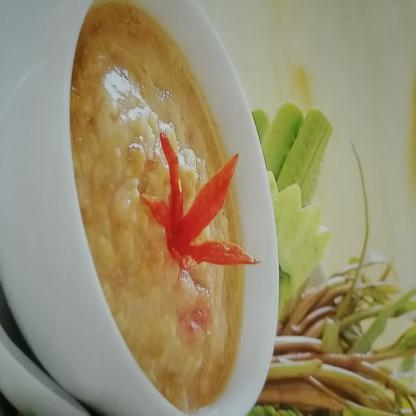Namprig: (66, 15, 270, 415)
